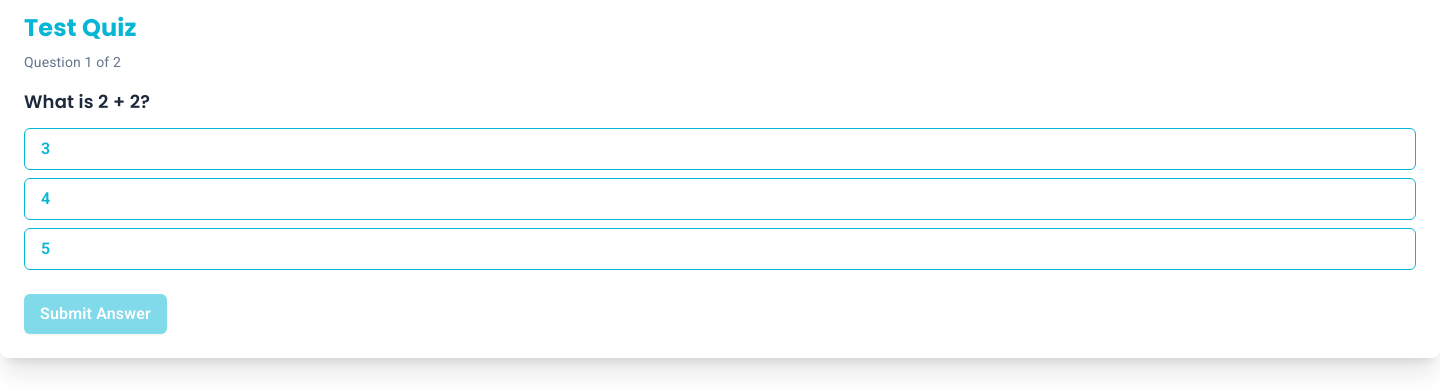
Test: QuizView › enables Submit Answer button when an option is selected
Click the button "3": (46, 148) [24, 128, 1416, 170]
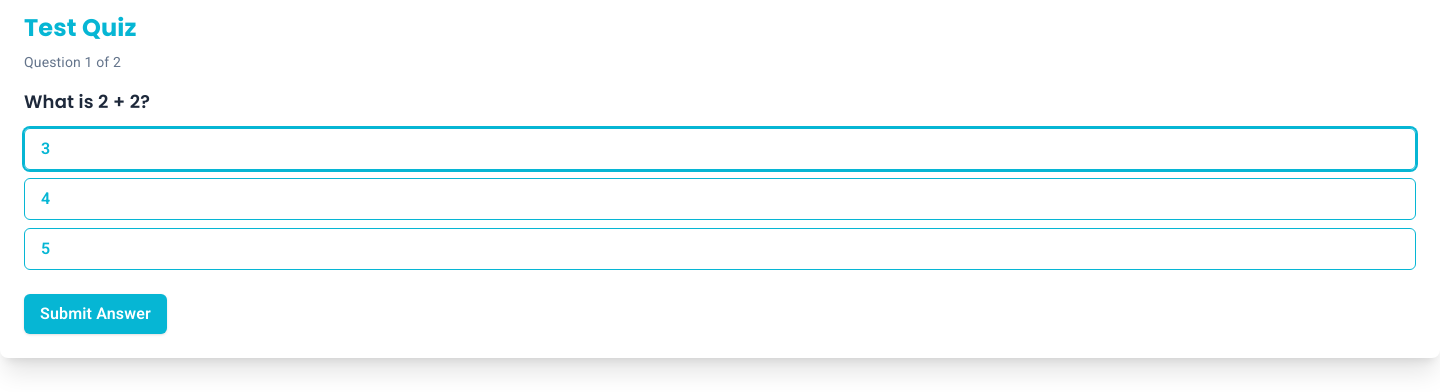
Expected: the button "Submit Answer" is enabled, [24, 294, 167, 334]
